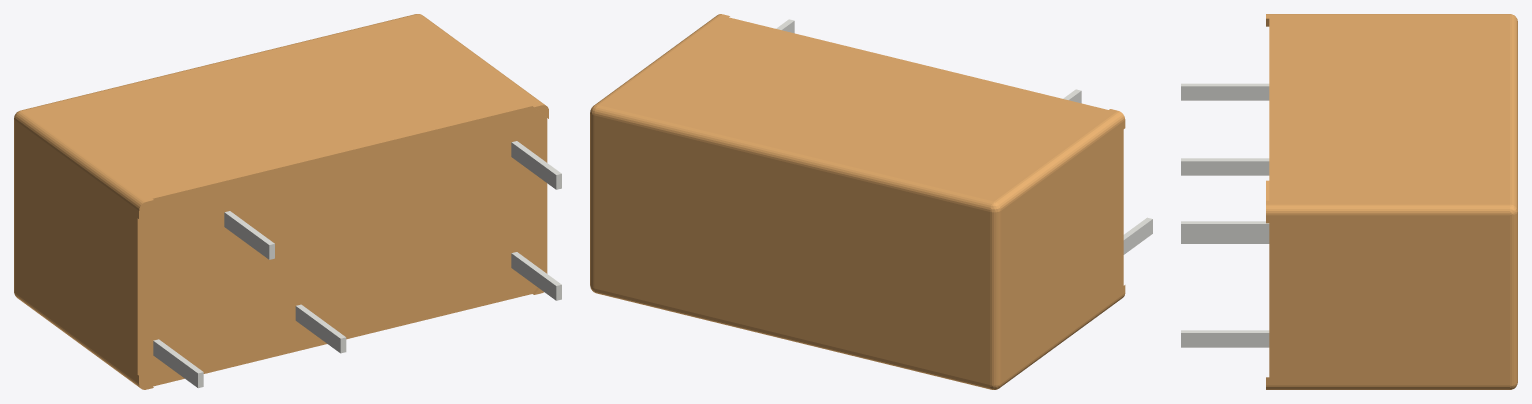
The model's file is Relay_SPDT_Schrack-RT1-FormC_RM5mm.glb.
3 views of the same model, side by side, from view 1: azimuth 30°, elevation 25°; view 2: azimuth 150°, elevation 25°; view 3: azimuth 270°, elevation 25° (orthographic).
Visible parts, largest first — view 1: Shape_IndexedFaceSet.005, Shape_IndexedFaceSet.011, Shape_IndexedFaceSet.012, Shape_IndexedFaceSet.039, Shape_IndexedFaceSet.003, Shape_IndexedFaceSet.016, Shape_IndexedFaceSet.020, Shape_IndexedFaceSet.024, Shape_IndexedFaceSet.028, Shape_IndexedFaceSet.040, Shape_IndexedFaceSet.036; view 2: Shape_IndexedFaceSet.047, Shape_IndexedFaceSet.011, Shape_IndexedFaceSet.012, Shape_IndexedFaceSet.040, Shape_IndexedFaceSet.041, Shape_IndexedFaceSet.035, Shape_IndexedFaceSet.039, Shape_IndexedFaceSet.033, Shape_IndexedFaceSet.036; view 3: Shape_IndexedFaceSet.011, Shape_IndexedFaceSet.007, Shape_IndexedFaceSet.032, Shape_IndexedFaceSet.040, Shape_IndexedFaceSet.033, Shape_IndexedFaceSet.001, Shape_IndexedFaceSet.022, Shape_IndexedFaceSet.026, Shape_IndexedFaceSet.018, Shape_IndexedFaceSet.034, Shape_IndexedFaceSet.014, Shape_IndexedFaceSet.027 (+1 smaller).
Boxes of the visible parts, x1,y1,x2,y2 form: Shape_IndexedFaceSet.005: (137, 106, 547, 386); Shape_IndexedFaceSet.011: (22, 14, 541, 201); Shape_IndexedFaceSet.012: (15, 120, 138, 383); Shape_IndexedFaceSet.039: (15, 111, 145, 210); Shape_IndexedFaceSet.003: (224, 212, 269, 259); Shape_IndexedFaceSet.016: (295, 306, 340, 353); Shape_IndexedFaceSet.020: (511, 142, 556, 189); Shape_IndexedFaceSet.024: (511, 253, 556, 300); Shape_IndexedFaceSet.028: (153, 341, 197, 387); Shape_IndexedFaceSet.040: (21, 14, 417, 110); Shape_IndexedFaceSet.036: (15, 293, 140, 388); Shape_IndexedFaceSet.047: (594, 115, 989, 384); Shape_IndexedFaceSet.011: (599, 14, 1117, 201); Shape_IndexedFaceSet.012: (1001, 120, 1125, 383); Shape_IndexedFaceSet.040: (594, 105, 993, 211); Shape_IndexedFaceSet.041: (990, 211, 1001, 385); Shape_IndexedFaceSet.035: (594, 288, 991, 389); Shape_IndexedFaceSet.039: (994, 111, 1125, 210); Shape_IndexedFaceSet.033: (590, 112, 594, 288); Shape_IndexedFaceSet.036: (1000, 293, 1125, 387); Shape_IndexedFaceSet.011: (1266, 14, 1509, 204); Shape_IndexedFaceSet.007: (1266, 215, 1509, 385); Shape_IndexedFaceSet.032: (1266, 204, 1509, 215); Shape_IndexedFaceSet.040: (1510, 14, 1517, 210); Shape_IndexedFaceSet.033: (1510, 212, 1517, 385); Shape_IndexedFaceSet.001: (1181, 86, 1269, 100); Shape_IndexedFaceSet.022: (1181, 333, 1269, 347); Shape_IndexedFaceSet.026: (1181, 161, 1269, 175); Shape_IndexedFaceSet.018: (1181, 224, 1269, 238); Shape_IndexedFaceSet.034: (1266, 385, 1509, 389); Shape_IndexedFaceSet.014: (1181, 238, 1269, 243); Shape_IndexedFaceSet.027: (1181, 158, 1269, 161).
Bounding box in the file's own units: 11.42 × 5 × 8.27.
